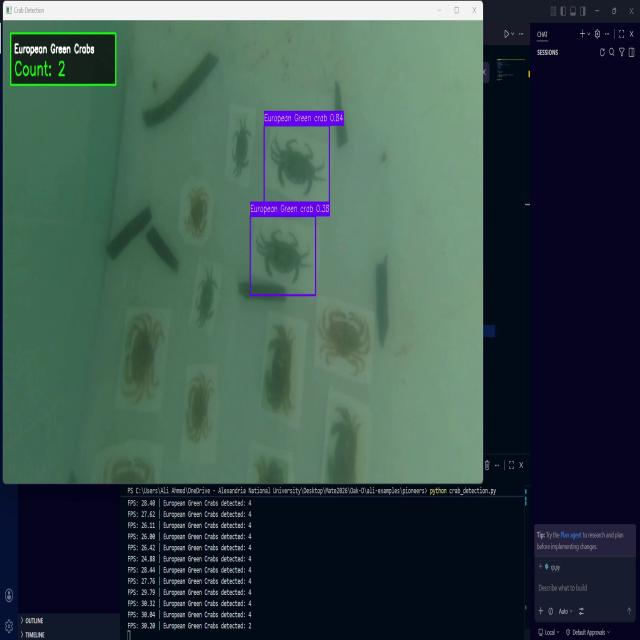European_Green_Crab: (251, 221, 313, 289), (264, 134, 326, 201), (191, 265, 220, 334), (229, 116, 255, 180)
